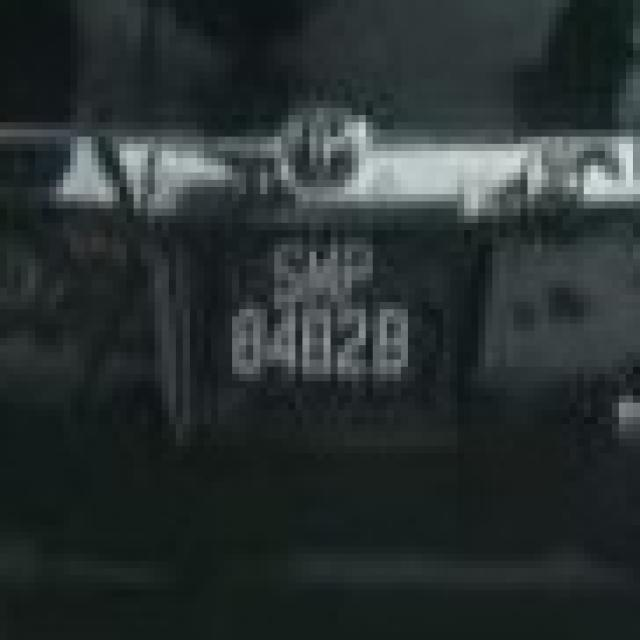2: (336, 308, 370, 381)
4: (268, 307, 302, 383)
8: (228, 304, 264, 384), (300, 307, 336, 382)
B: (371, 303, 413, 382)
M: (306, 236, 341, 305)
P: (342, 237, 377, 306)
S: (269, 238, 306, 307)
